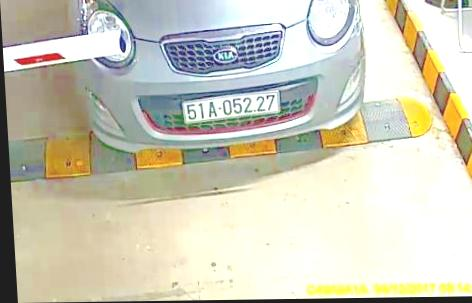License_Plate: (179, 88, 285, 123)
